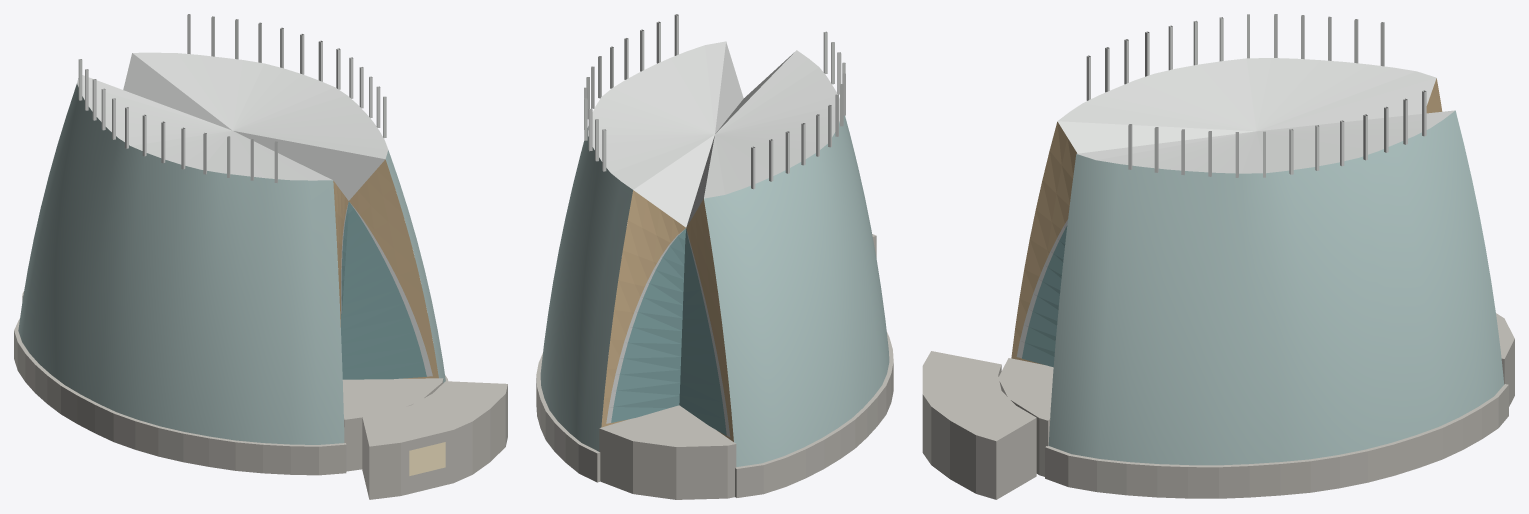
File: sf-christ-the-light.glb
3 renders of one model, left to right at view 1: azimuth 30°, elevation 25°; view 2: azimuth 150°, elevation 25°; view 3: azimuth 270°, elevation 25°, orthographic. The views are drawn at different scales.
Parts seen in each view (by area): view 1: Cathedral of Christ the Light; view 2: Cathedral of Christ the Light; view 3: Cathedral of Christ the Light.
Part boxes in pixels (x1,y1,x2,y2): Cathedral of Christ the Light: (14,14,507,499); Cathedral of Christ the Light: (536,14,893,499); Cathedral of Christ the Light: (922,14,1514,499).
Size of the model in its own units: 46.18 by 43.95 by 69.06.
